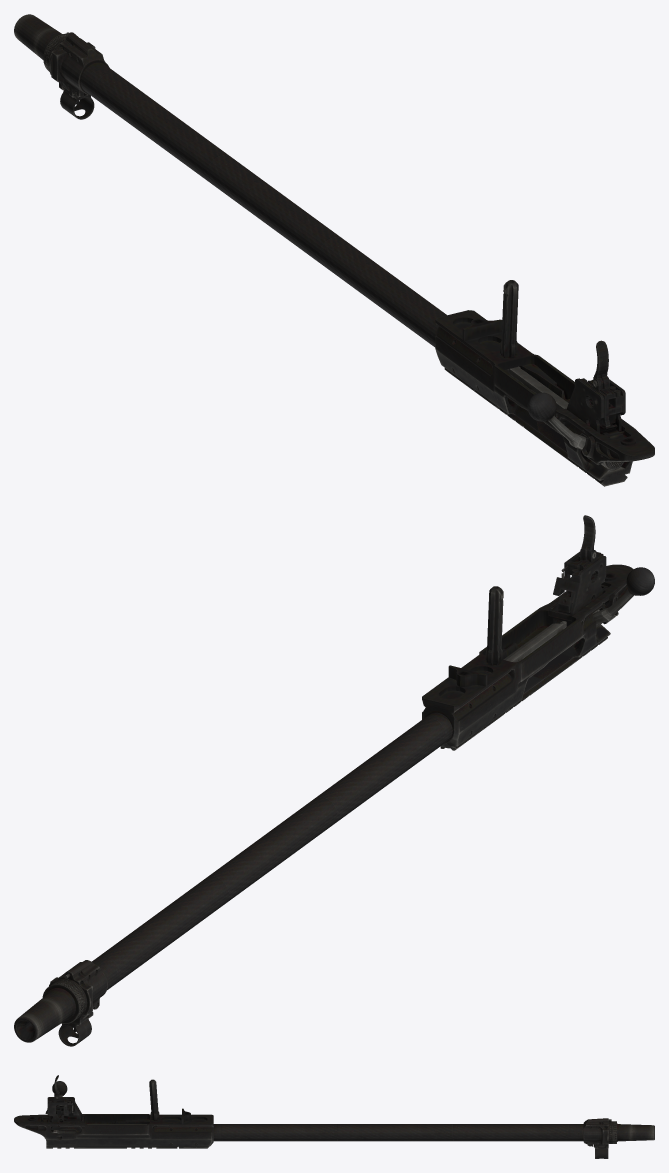
3 renders of one model, top to bottom at view 1: azimuth 30°, elevation 25°; view 2: azimuth 150°, elevation 25°; view 3: azimuth 270°, elevation 25°, orthographic. The views are drawn at different scales.
Parts seen in each view (by area): view 1: TW_55801eed4bdc2d89578b4588_PZ_Import; view 2: TW_55801eed4bdc2d89578b4588_PZ_Import; view 3: TW_55801eed4bdc2d89578b4588_PZ_Import.
Part boxes in pixels (box(x1,y1,x2,y2)): TW_55801eed4bdc2d89578b4588_PZ_Import: box(14, 14, 654, 486); TW_55801eed4bdc2d89578b4588_PZ_Import: box(14, 515, 654, 1046); TW_55801eed4bdc2d89578b4588_PZ_Import: box(14, 1075, 654, 1158).
Bounding box in the file's own units: 0.0456 × 0.4992 × 0.0706.
1 material, 1 textured.
